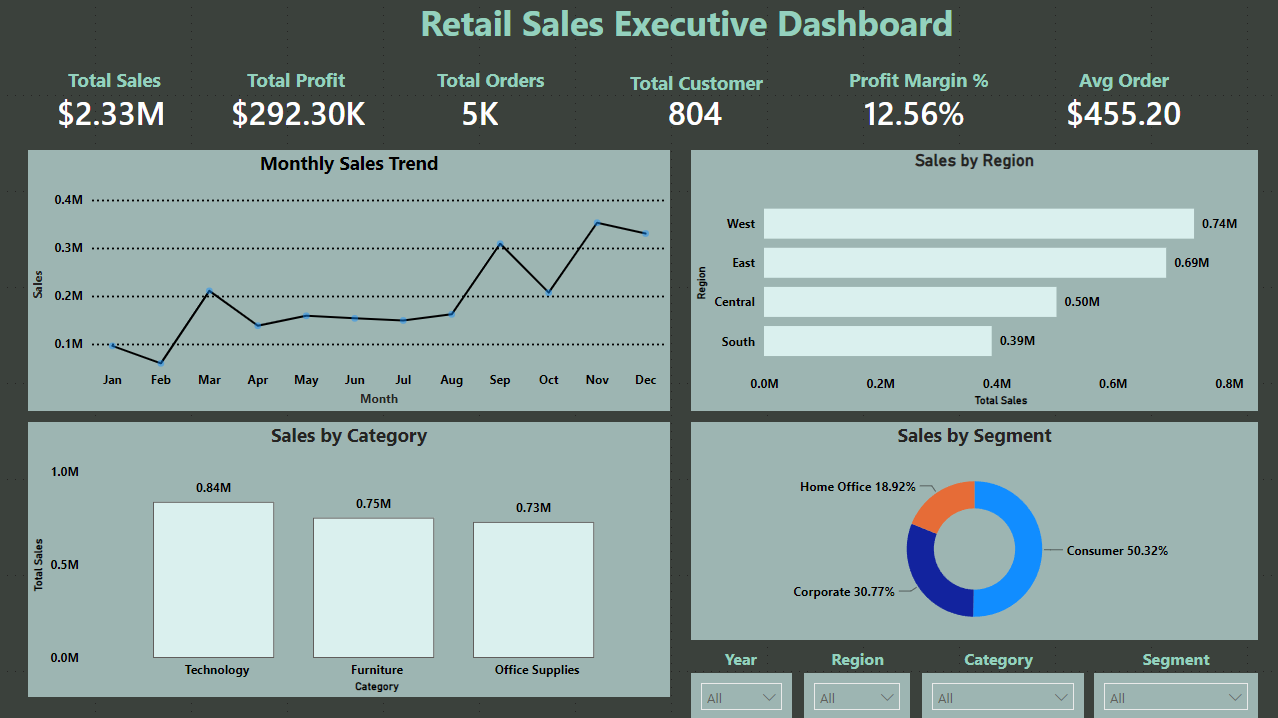

The page's visual inventory and layout, read from the dashboard file:
{"tool":"powerbi","page":{"name":"Executive Dashboard","canvas":[1280,720],"ordinal":0},"visuals":[{"type":"textbox","title":"Retail Sales Executive Dashboard","box":[367.7,0,543.7,45.7],"z":0},{"type":"cardVisual","title":"Total Sales","fields":{"Data":["Measures (2).Total Sales"]},"box":[29.2,59.3,196.5,104.1],"z":1000},{"type":"cardVisual","title":"Total Profit","fields":{"Data":["Measures (2).Total Profit"]},"box":[203.1,59.3,204.3,104.1],"z":2000},{"type":"cardVisual","title":"Total Orders","fields":{"Data":["Measures (2).Total Orders"]},"box":[432.8,59.3,181.9,104.1],"z":3000},{"type":"cardVisual","title":"Total Customers","fields":{"Data":["Measures (2).Total Customers"]},"box":[640,59.3,225.7,104.1],"z":4000},{"type":"cardVisual","title":"Profit Margin %","fields":{"Data":["Measures (2).Profit Margin %"]},"box":[835.5,59.3,225.7,104.1],"z":5000},{"type":"cardVisual","title":"Avg Order Value","fields":{"Data":["Measures (2).Average Order Value"]},"box":[1037.8,59.3,205.2,104.1],"z":6000},{"type":"textbox","title":"Total Sales","box":[64.2,68.1,104.1,25.3],"z":7000},{"type":"textbox","title":"Total Profit","box":[243.2,68.1,114.8,25.3],"z":8000},{"type":"textbox","title":"Total Orders","box":[432.8,68.1,118.7,25.3],"z":9000},{"type":"textbox","title":"Total Customer","box":[626.4,71,144,22.4],"z":10000},{"type":"textbox","title":"Profit Margin %","box":[845.2,68.1,154.7,25.3],"z":11000},{"type":"textbox","title":"Avg Order","box":[1074.8,68.1,104.1,25.3],"z":12000},{"type":"lineChart","title":"Monthly Sales Trend","fields":{"Category":["Date.Month Short"],"Y":["Measures (2).Total Sales"]},"box":[29.2,150.8,641.9,261.6],"z":13000},{"type":"clusteredBarChart","title":"Sales by Region","fields":{"Y":["Measures (2).Total Sales"],"Category":["Orders.Region"]},"box":[691.6,150.8,567.1,261.6],"z":14000},{"type":"clusteredColumnChart","title":"Sales by Category","fields":{"Category":["Orders.Category"],"Y":["Measures (2).Total Sales"]},"box":[29.2,423.1,641.9,275.3],"z":15000},{"type":"donutChart","title":"Sales by Segment","fields":{"Category":["Orders.Segment"],"Y":["Measures (2).Total Sales"]},"box":[691.6,423.1,567.1,217.9],"z":16000},{"type":"slicer","title":"Year","fields":{"Values":["Date.Year"]},"box":[691.6,674,101.2,45.7],"z":17000},{"type":"slicer","title":"Year","fields":{"Values":["Orders.Region"]},"box":[805.3,674,106,45.7],"z":18000},{"type":"slicer","title":"Year","fields":{"Values":["Orders.Category"]},"box":[923,674,162.4,45.7],"z":19000},{"type":"slicer","title":"Year","fields":{"Values":["Orders.Segment"]},"box":[1095.2,674,163.4,45.7],"z":20000},{"type":"textbox","title":"Year","box":[687.7,648.8,108,25.3],"z":21000},{"type":"textbox","title":"Region","box":[801.5,648.8,114.8,25.3],"z":22000},{"type":"textbox","title":"Category","box":[942.5,648.8,114.8,25.3],"z":23000},{"type":"textbox","title":"Segment","box":[1119.5,648.8,114.8,25.3],"z":24000}]}

Visuals, with their boxes in screenshot pixels (x1, y1, x2, y2), scaled from the page's 1280x720 canvas onto the 1278x718 screenshot:
"Retail Sales Executive Dashboard" textbox: {"x1": 367, "y1": 0, "x2": 910, "y2": 46}
"Total Sales" cardVisual: {"x1": 29, "y1": 59, "x2": 225, "y2": 163}
"Total Profit" cardVisual: {"x1": 203, "y1": 59, "x2": 407, "y2": 163}
"Total Orders" cardVisual: {"x1": 432, "y1": 59, "x2": 614, "y2": 163}
"Total Customers" cardVisual: {"x1": 639, "y1": 59, "x2": 864, "y2": 163}
"Profit Margin %" cardVisual: {"x1": 834, "y1": 59, "x2": 1060, "y2": 163}
"Avg Order Value" cardVisual: {"x1": 1036, "y1": 59, "x2": 1241, "y2": 163}
"Total Sales" textbox: {"x1": 64, "y1": 68, "x2": 168, "y2": 93}
"Total Profit" textbox: {"x1": 243, "y1": 68, "x2": 357, "y2": 93}
"Total Orders" textbox: {"x1": 432, "y1": 68, "x2": 551, "y2": 93}
"Total Customer" textbox: {"x1": 625, "y1": 71, "x2": 769, "y2": 93}
"Profit Margin %" textbox: {"x1": 844, "y1": 68, "x2": 998, "y2": 93}
"Avg Order" textbox: {"x1": 1073, "y1": 68, "x2": 1177, "y2": 93}
"Monthly Sales Trend" lineChart: {"x1": 29, "y1": 150, "x2": 670, "y2": 411}
"Sales by Region" clusteredBarChart: {"x1": 691, "y1": 150, "x2": 1257, "y2": 411}
"Sales by Category" clusteredColumnChart: {"x1": 29, "y1": 422, "x2": 670, "y2": 696}
"Sales by Segment" donutChart: {"x1": 691, "y1": 422, "x2": 1257, "y2": 639}
"Year" slicer: {"x1": 691, "y1": 672, "x2": 792, "y2": 717}
"Year" slicer: {"x1": 804, "y1": 672, "x2": 910, "y2": 717}
"Year" slicer: {"x1": 922, "y1": 672, "x2": 1084, "y2": 717}
"Year" slicer: {"x1": 1093, "y1": 672, "x2": 1257, "y2": 717}
"Year" textbox: {"x1": 687, "y1": 647, "x2": 794, "y2": 672}
"Region" textbox: {"x1": 800, "y1": 647, "x2": 915, "y2": 672}
"Category" textbox: {"x1": 941, "y1": 647, "x2": 1056, "y2": 672}
"Segment" textbox: {"x1": 1118, "y1": 647, "x2": 1232, "y2": 672}
